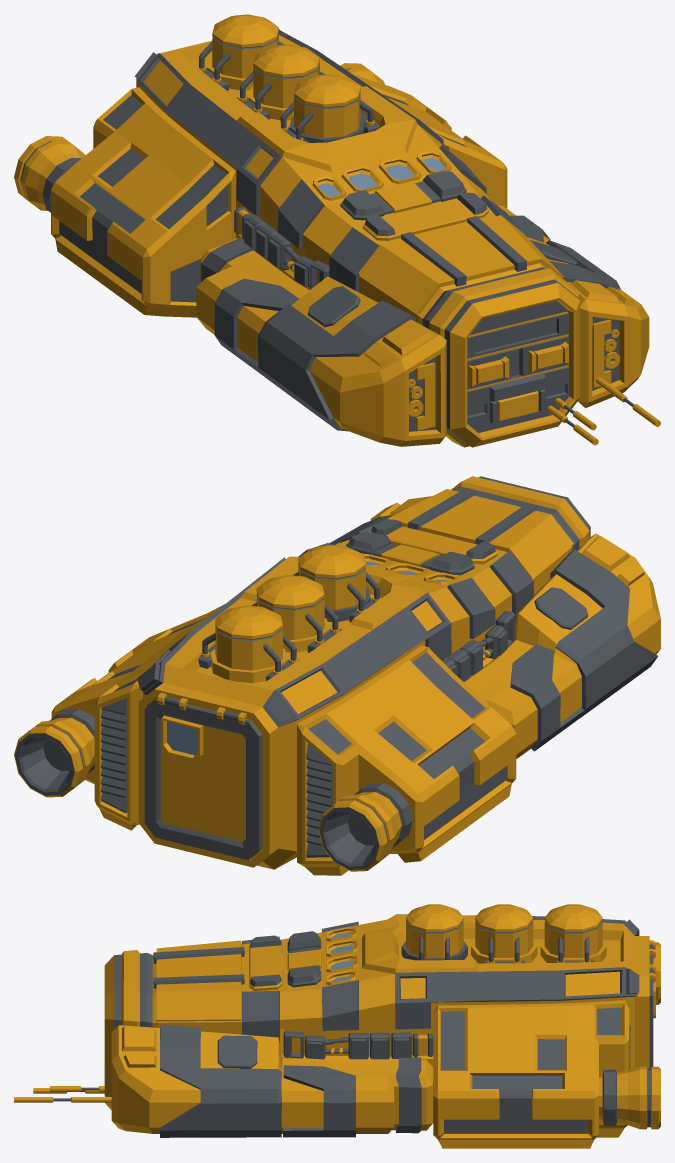
Rendered from Mothership_01_Yellow.fbx.
3 views of the same model, one above another, from view 1: azimuth 30°, elevation 25°; view 2: azimuth 150°, elevation 25°; view 3: azimuth 270°, elevation 25° (orthographic). The views are drawn at different scales.
Visible parts, largest first — view 1: Mothership_01_Yellow; view 2: Mothership_01_Yellow; view 3: Mothership_01_Yellow.
Part boxes in pixels (<box>): Mothership_01_Yellow: <box>14,14,660,447</box>; Mothership_01_Yellow: <box>14,476,660,875</box>; Mothership_01_Yellow: <box>14,904,660,1148</box>.
Size of the model in its own units: 4176 by 2438 by 7543.
3 materials, 3 textured.
